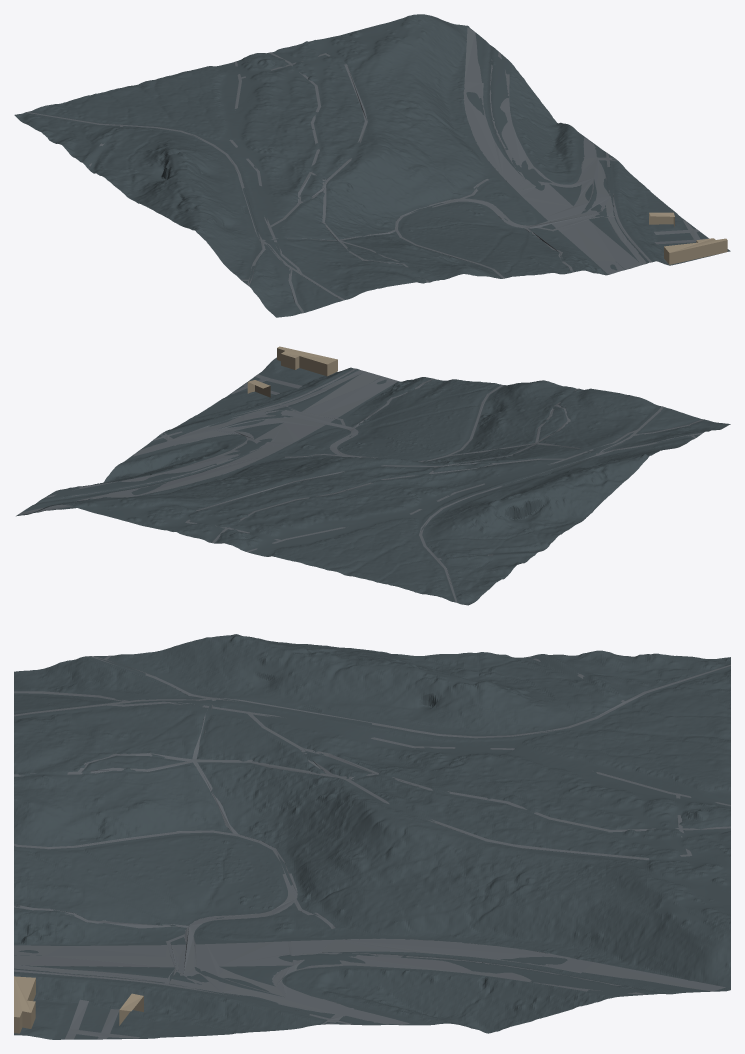
Rendered from epsg26910-1416-10871.lod0.glb.
3 renders of one model, top to bottom at view 1: azimuth 30°, elevation 25°; view 2: azimuth 150°, elevation 25°; view 3: azimuth 270°, elevation 25°, orthographic. The views are drawn at different scales.
Visible parts, largest first — view 1: epsg26910-1416-10871-lod0; view 2: epsg26910-1416-10871-lod0; view 3: epsg26910-1416-10871-lod0.
Boxes of the visible parts, x1,y1,x2,y2 form: epsg26910-1416-10871-lod0: (14, 14, 730, 317); epsg26910-1416-10871-lod0: (16, 346, 730, 605); epsg26910-1416-10871-lod0: (14, 634, 730, 1039).
Size of the model in its own units: 384 by 61.39 by 384.
